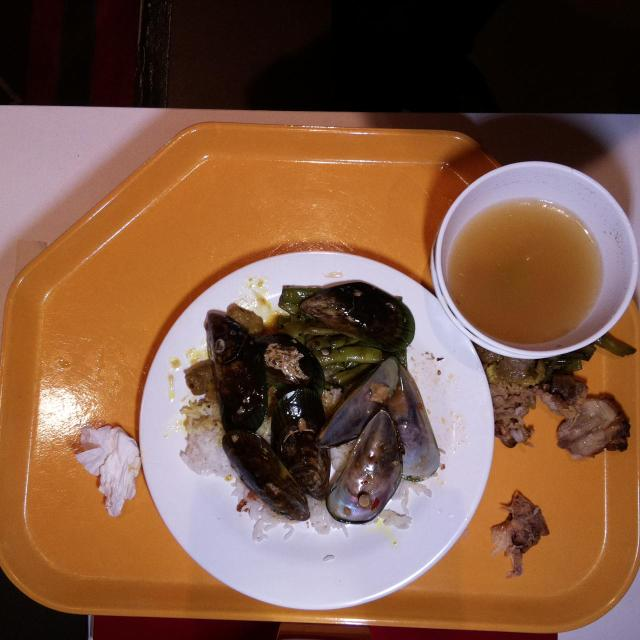Bone: (545, 356, 634, 458), (491, 488, 551, 579), (493, 364, 539, 446)
Mussel-shell: (207, 279, 447, 525)
Rice: (180, 398, 222, 478)
Vegetable: (317, 342, 387, 384)
